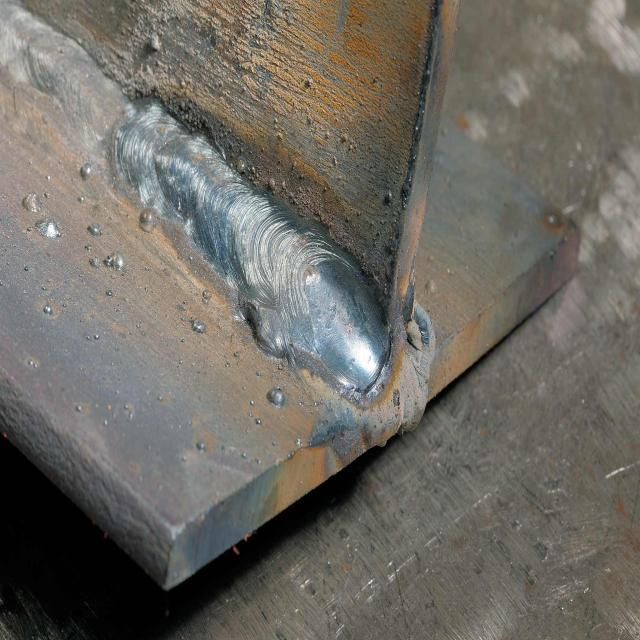Good Welding: (114, 107, 390, 386), (3, 9, 148, 192)
Spatters: (260, 379, 292, 414), (148, 29, 170, 66), (36, 214, 62, 242), (104, 250, 123, 272)
